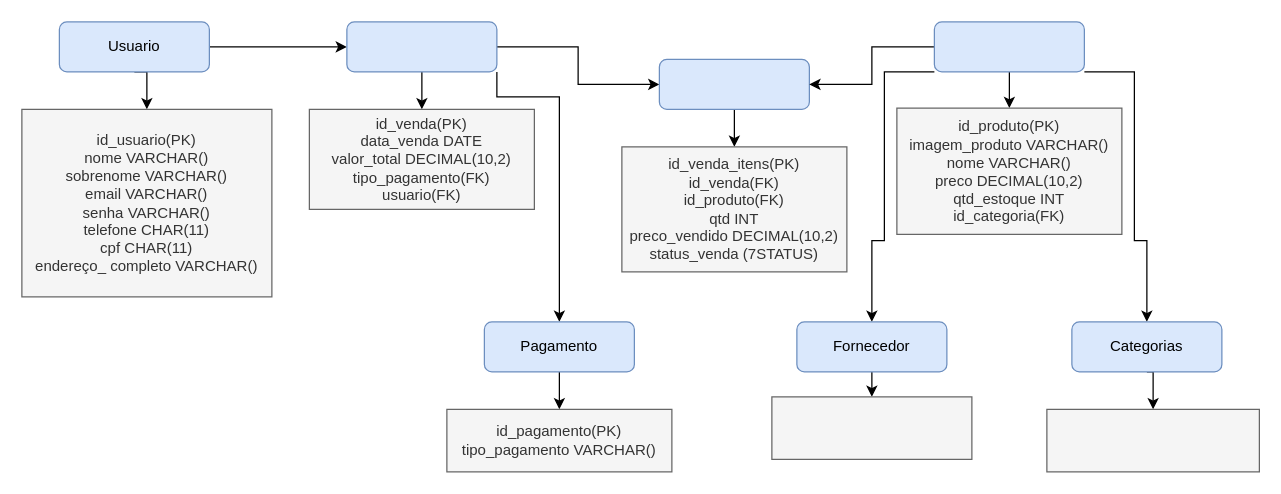
Some shapes in this 1281 by 494 pixel diagram are drawn without their labels. The shapes that lost their labels are listed below. From the top down, each one's centre as x and y in pixels, then its label:
At point (421, 46): "Venda".
At point (1008, 46): "Produto".
At point (733, 83): "Venda_itens".
At point (871, 427): "id_fornecedor(PK) nome VARCHAR()".
At point (1152, 440): "id_categoria(PK) nome VARCHAR()".
